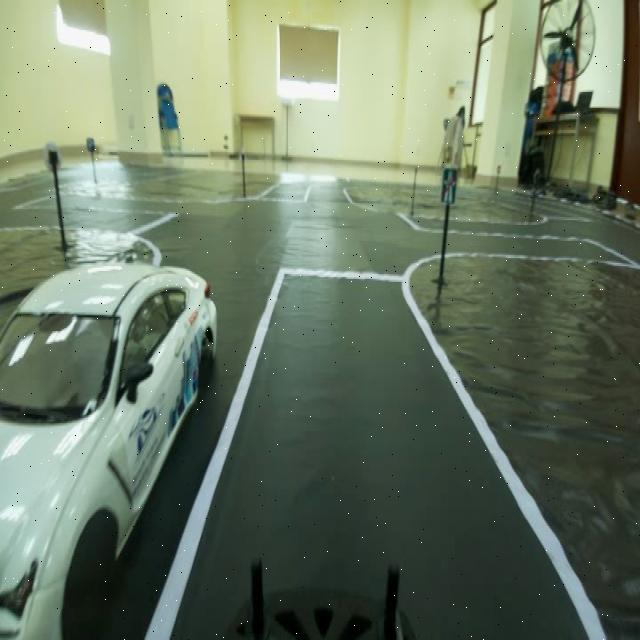car: (0, 179, 213, 626)
highway_exit: (437, 159, 464, 210)
